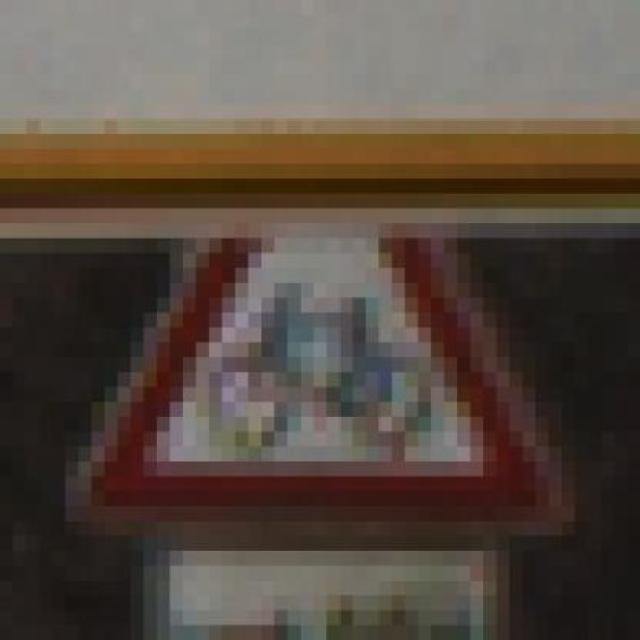CYCLE ROUTE AHEAD WARNING: (26, 238, 588, 536)
